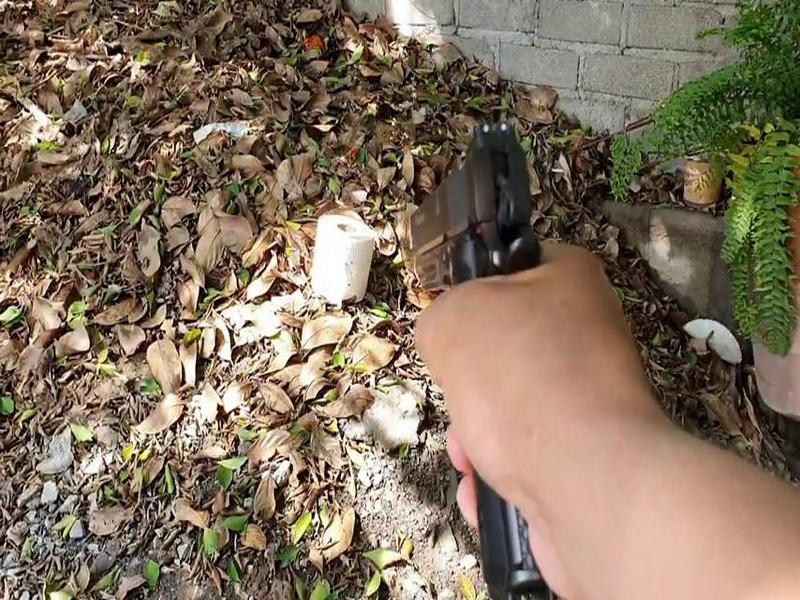Pistola: (369, 115, 595, 519)
